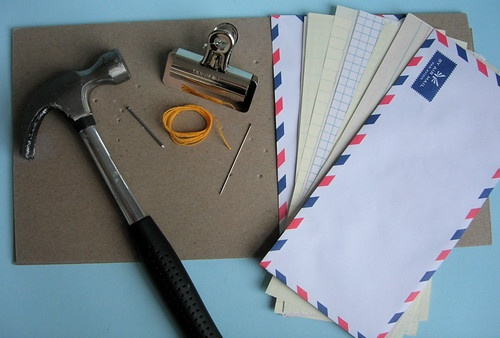hammer: (15, 48, 227, 338)
